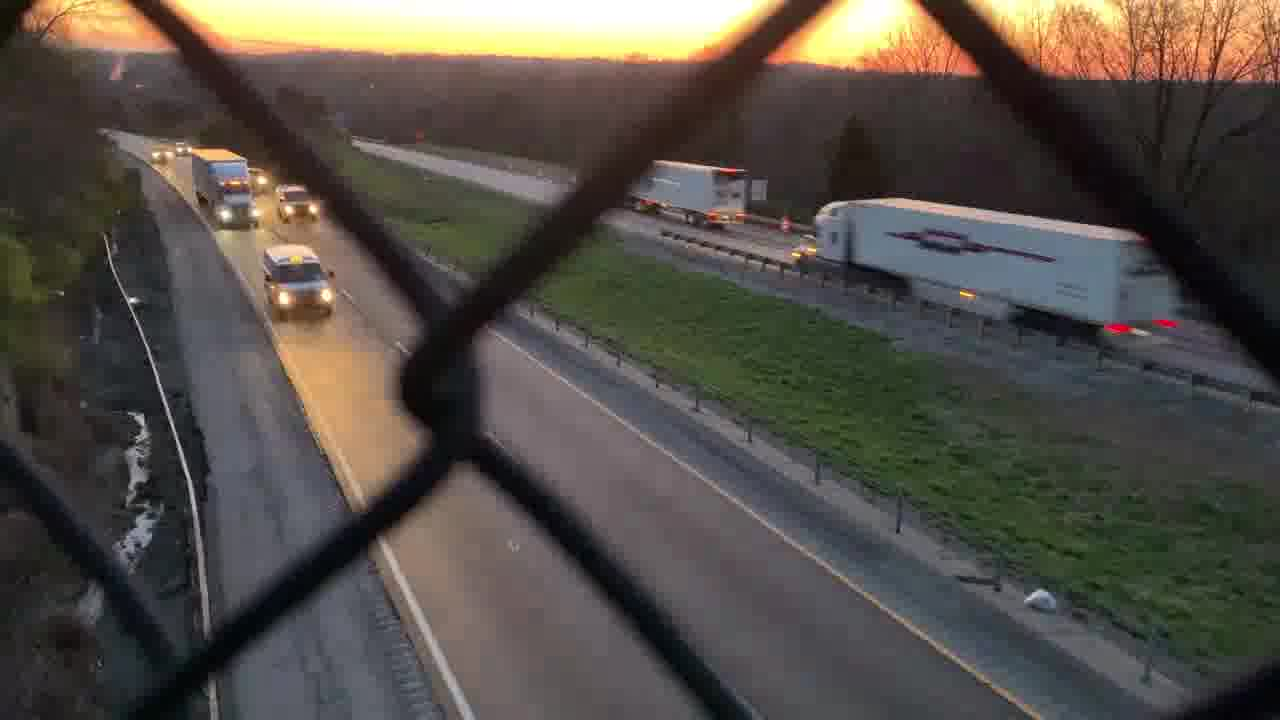heavyTruck: (801, 197, 1177, 340), (624, 157, 751, 222), (186, 147, 256, 225)
largeCar: (261, 247, 339, 322), (272, 180, 321, 225)
